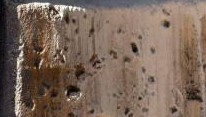Spalling: (19, 5, 178, 117)
